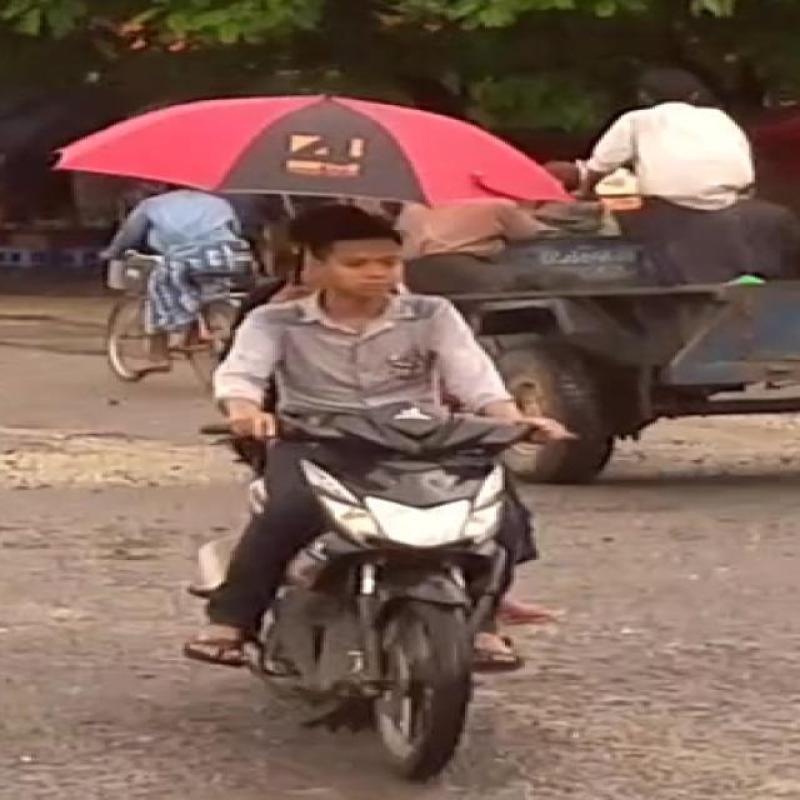nohelmet: (278, 211, 436, 325)
